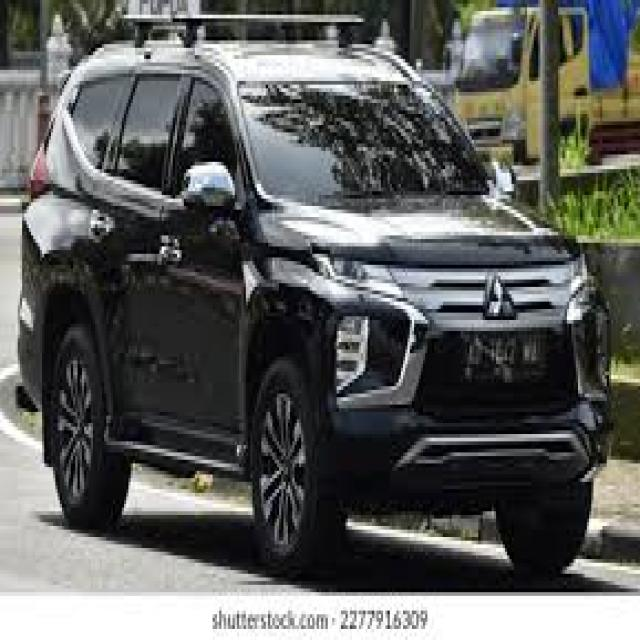light_vehicle: (15, 33, 612, 581)
